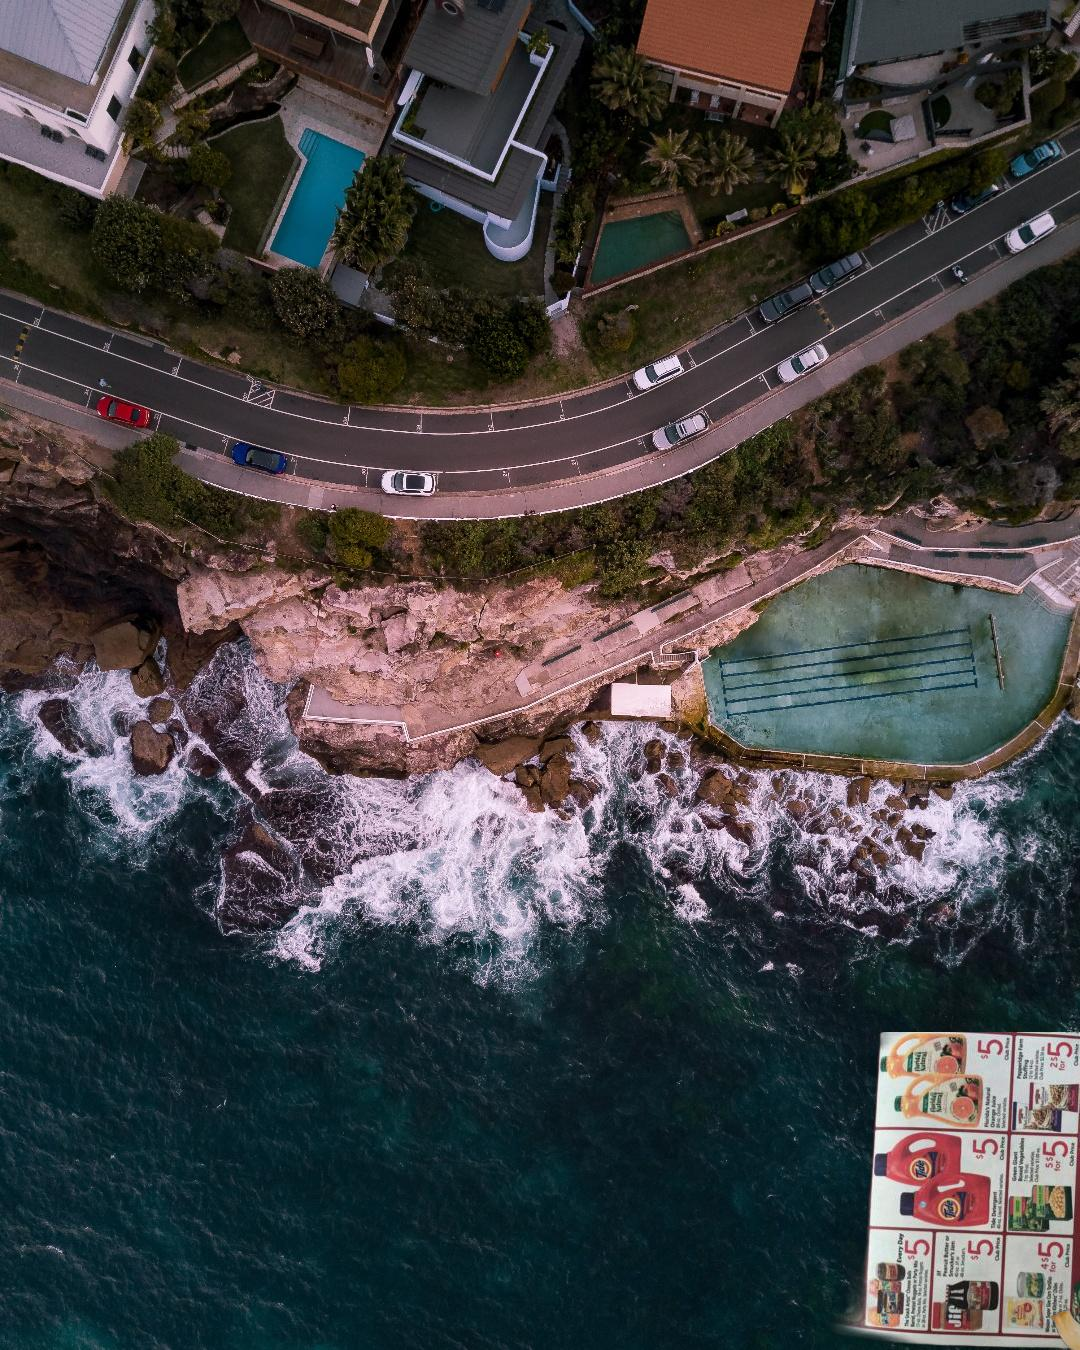paper: (822, 1032, 1080, 1350)
plastic-bag: (1049, 1257, 1080, 1350)
